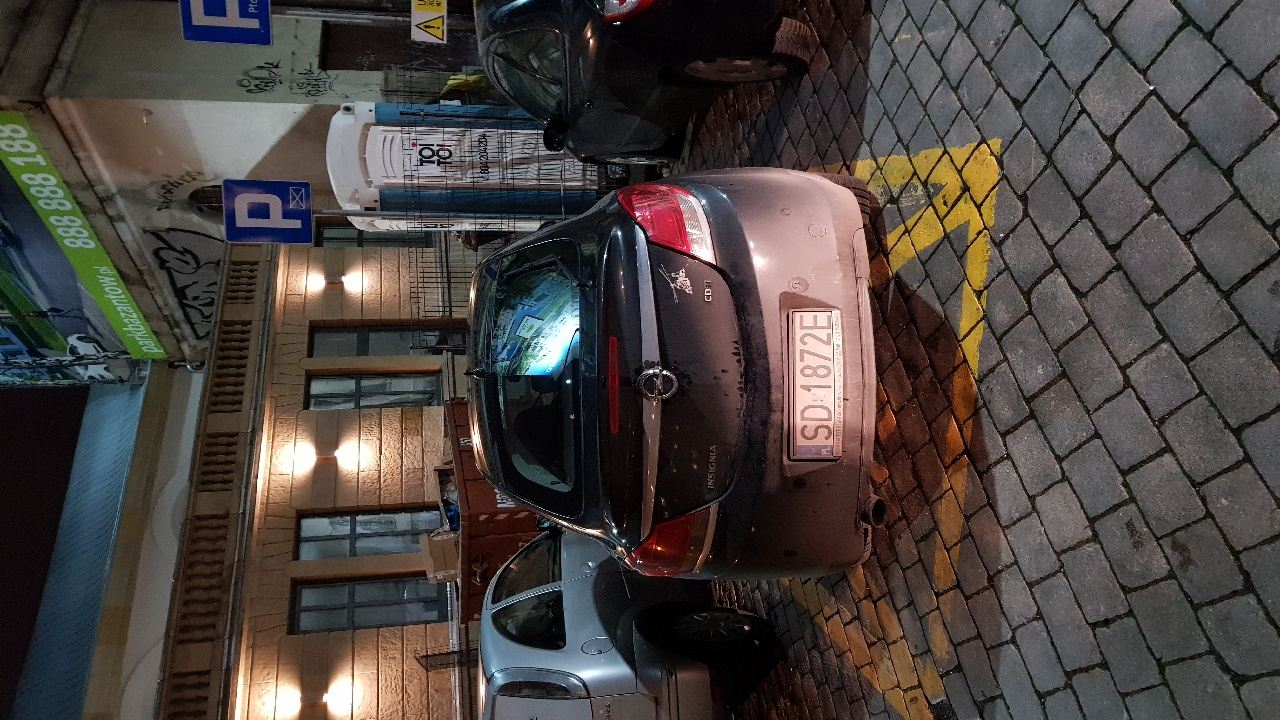D18: (215, 172, 318, 242)
